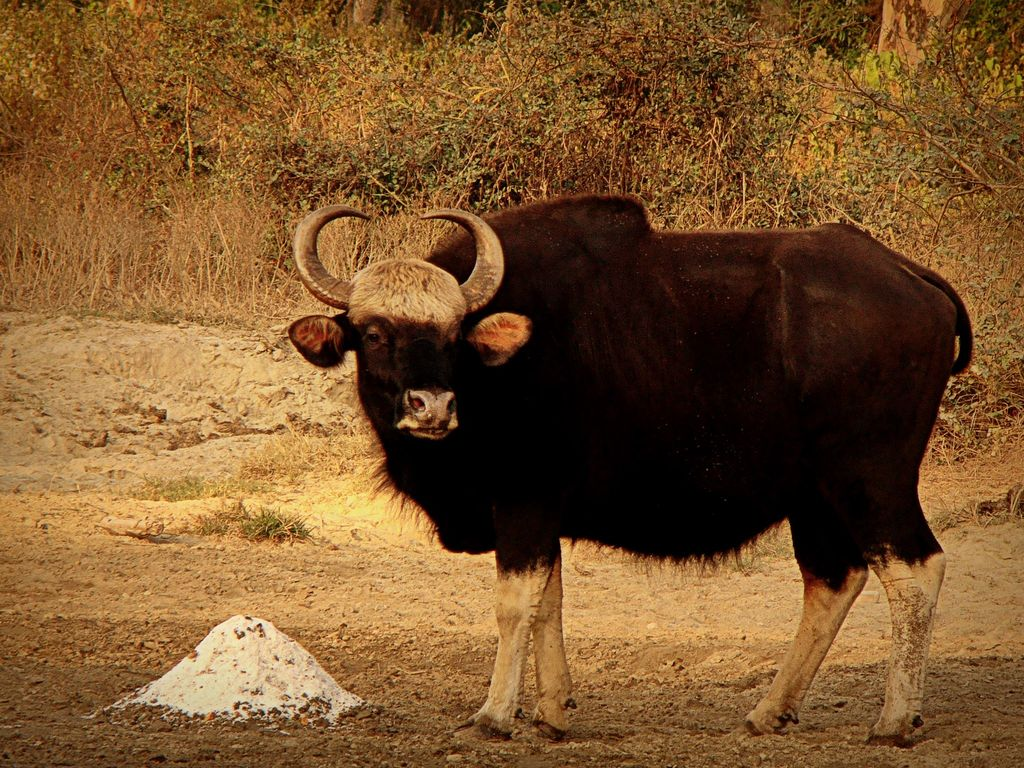bison: (279, 166, 979, 751)
